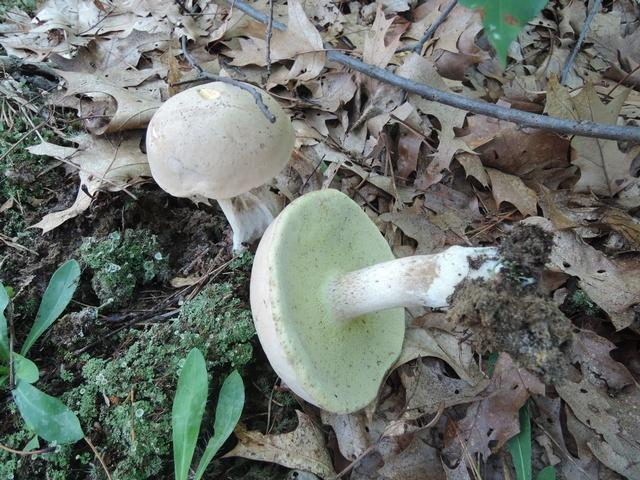Edible Mushroom: (247, 186, 573, 416), (144, 78, 295, 257)
